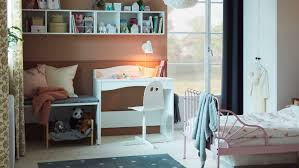Bed: (180, 83, 299, 168)
Chair: (128, 78, 171, 141)
Lamp: (133, 36, 166, 77)
Table: (90, 61, 181, 143)
curtain: (219, 1, 248, 116)
